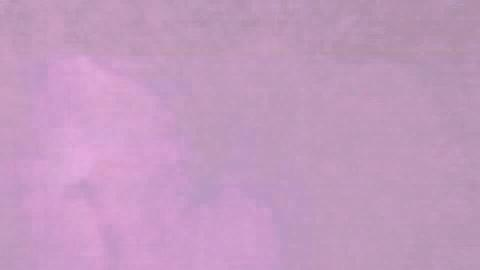tomato: (175, 114, 466, 269), (2, 114, 173, 269), (467, 115, 477, 268)
